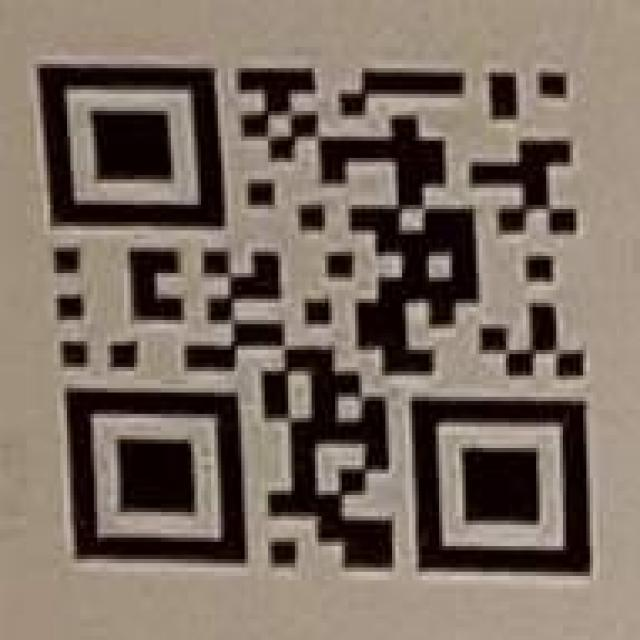QR_CODE: (35, 61, 593, 578)
